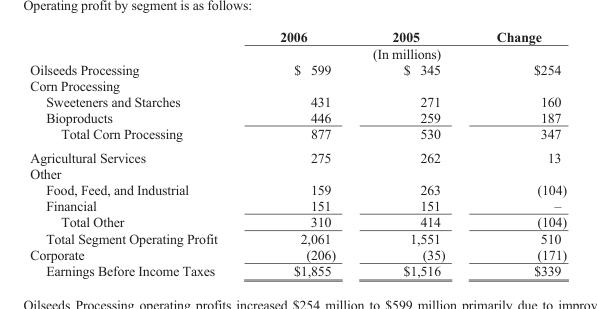table: (29, 28, 566, 278)
table column: (29, 28, 248, 278), (248, 28, 363, 278), (363, 28, 470, 278), (470, 28, 566, 278)
table column header: (29, 28, 566, 61)
table projected row header: (29, 76, 566, 92), (29, 165, 566, 180)
table row: (29, 125, 566, 145), (29, 145, 566, 165), (29, 44, 566, 61), (29, 108, 566, 125), (29, 196, 566, 213), (29, 229, 566, 246), (29, 28, 566, 44), (29, 76, 566, 92), (29, 92, 566, 108), (29, 180, 566, 196), (29, 213, 566, 229), (29, 246, 566, 262), (29, 262, 566, 278), (29, 61, 566, 76), (29, 165, 566, 180)
table spanning cell: (248, 44, 566, 61)
